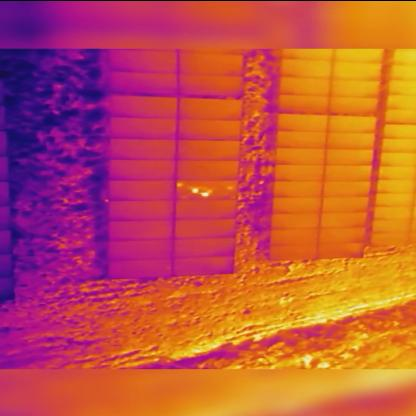panel: (107, 92, 179, 120), (174, 115, 244, 143), (105, 196, 177, 223), (108, 136, 181, 162), (108, 114, 181, 139), (107, 155, 177, 181), (106, 236, 175, 262), (104, 217, 176, 241), (175, 96, 245, 120), (106, 178, 175, 202), (173, 196, 239, 221), (174, 157, 242, 181), (175, 137, 243, 161), (107, 257, 174, 280), (173, 235, 236, 259), (173, 177, 241, 199), (172, 217, 238, 239), (171, 254, 235, 276)
